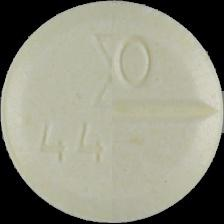0093-4404: (0, 0, 224, 224)
